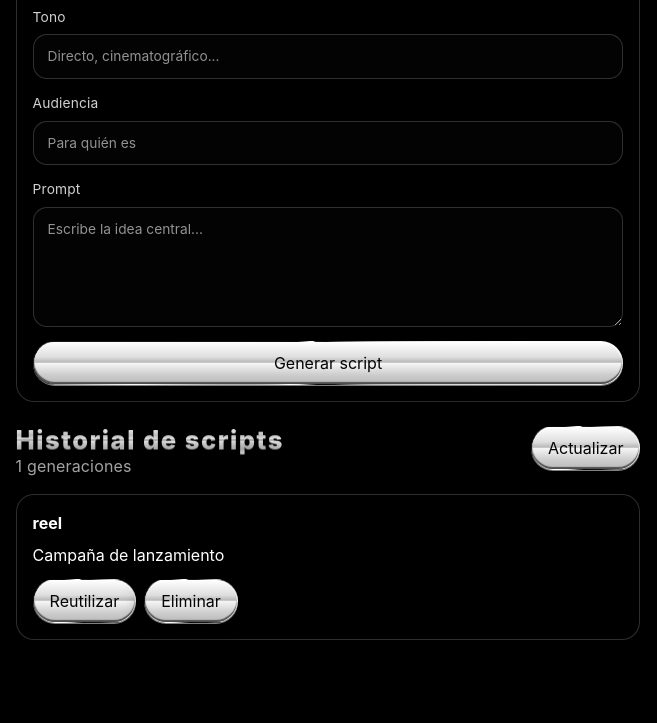
Test case: reutilizar un script restaura todos sus parámetros profesionales
(page scrolled)
Click the button "Reutilizar": (84, 601) x1=33 y1=579 x2=136 y2=623
(page scrolled)
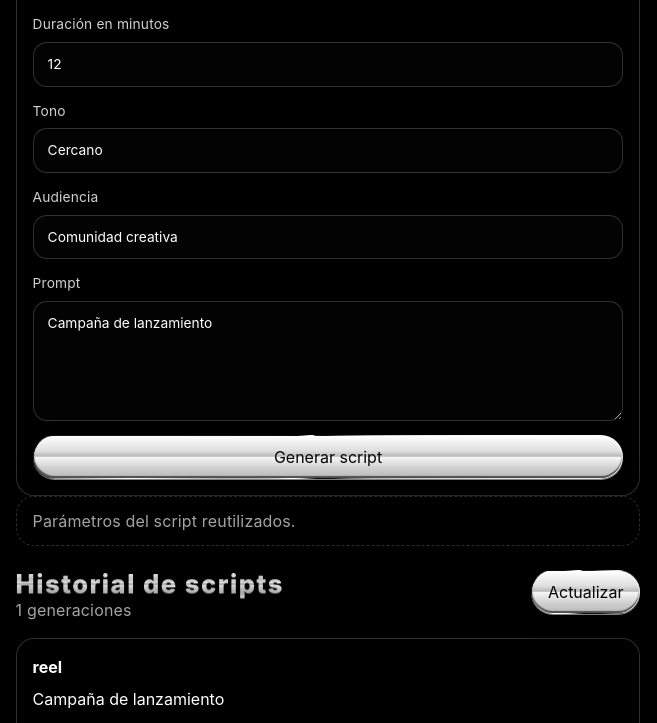
Expected: the number field labelled "Duración en minutos" holds "12", x1=33 y1=42 x2=623 y2=87
Expected: the field labelled "Tono" holds "Cercano", x1=33 y1=128 x2=623 y2=173
Expected: the field labelled "Audiencia" holds "Comunidad creativa", x1=33 y1=214 x2=623 y2=259
